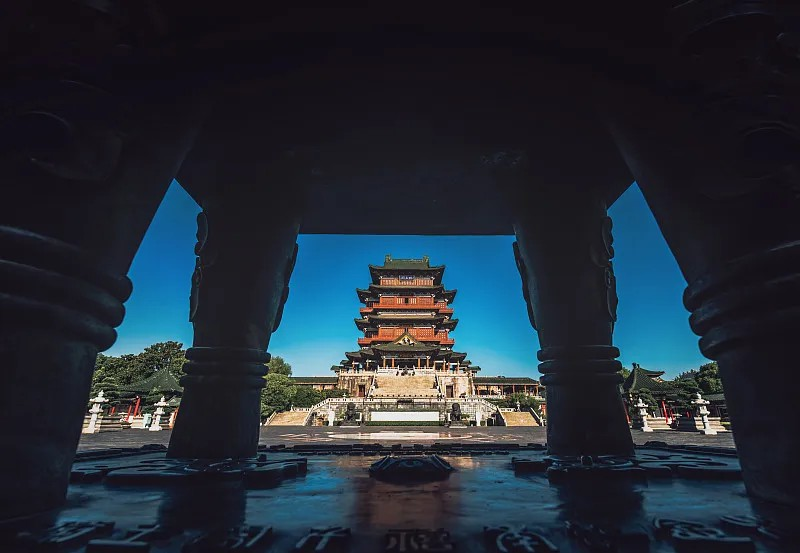Teng: (330, 256, 481, 379)
